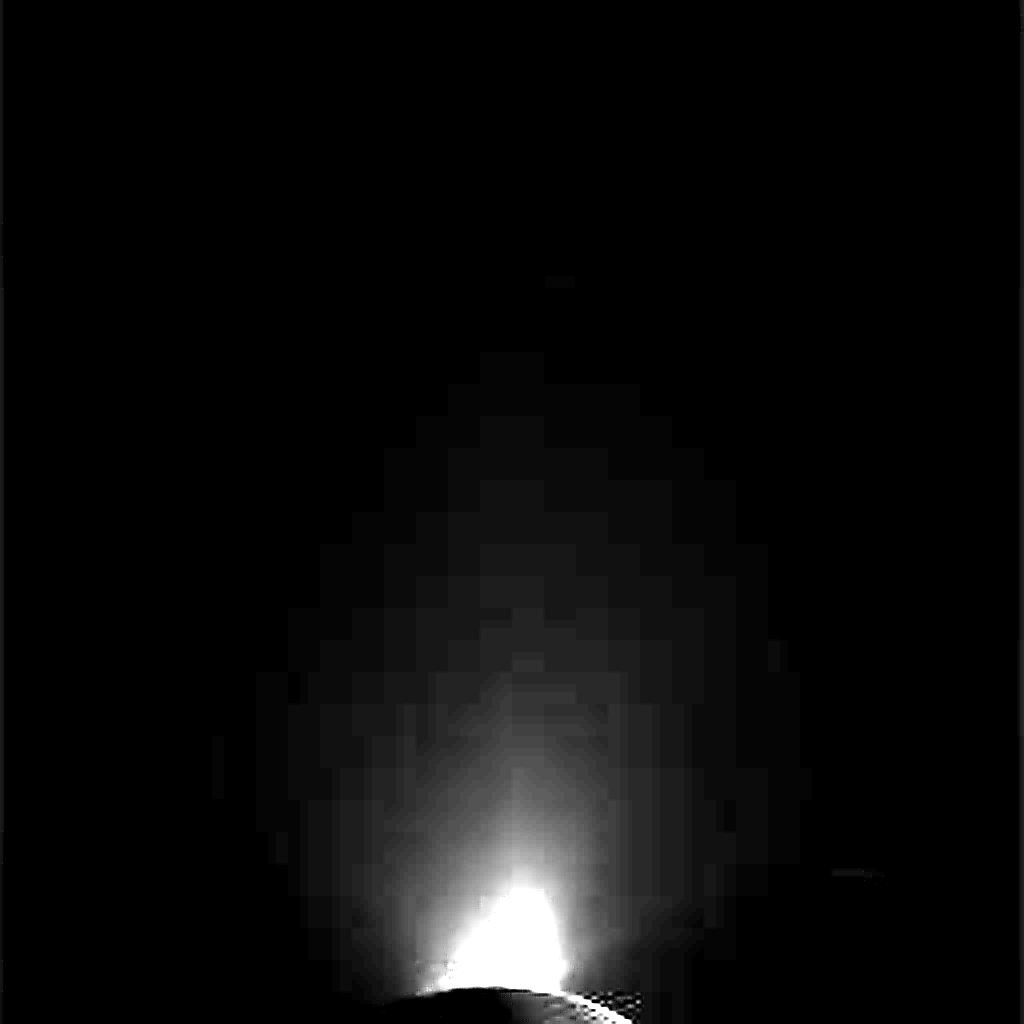plumes: (424, 882, 567, 994)
